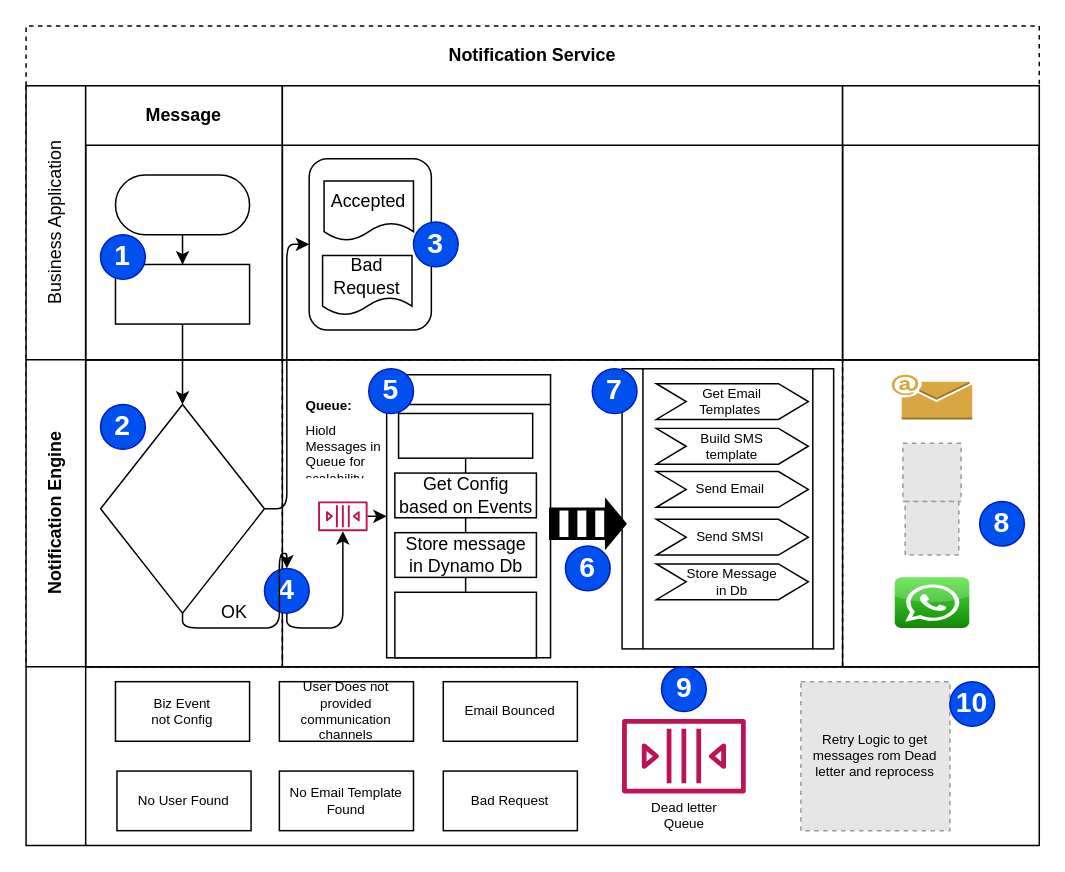
The diagram is 1065 pixels wide and 872 high, and some of its shapes have lost their labels. Grey dashed boxes stand in for pictures. Each missing label, with the box of its shape:
Biz Event: (114, 174, 250, 235)
Build Message: (385, 373, 551, 658)
Exceptions: (25, 665, 1039, 846)
Get User details from user Store: (397, 412, 533, 458)
Invoke Notification Endpoint: (114, 263, 250, 324)
Process: (281, 84, 843, 360)
Stream messages based on User pref: (393, 591, 536, 658)
Validate request 1. Message 2. Duplicate: (99, 403, 264, 613)
